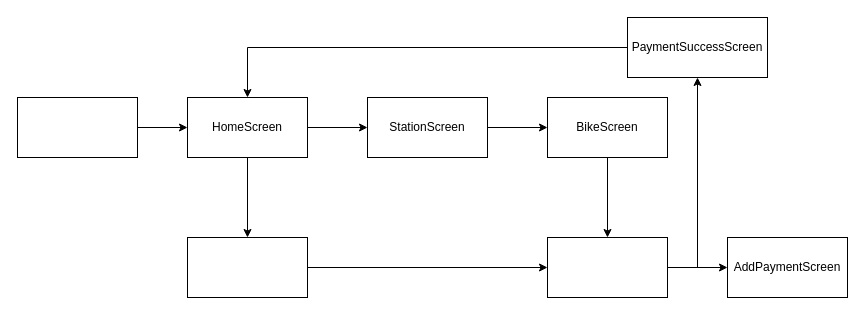
This 865x315 diagram has some shape labels left out. Here are the shapes that lost their labels. From the top down, the centre of each, then its label:
[77,127]: StartScreen
[247,267]: ScannerScreen
[607,267]: PaymentScreen
